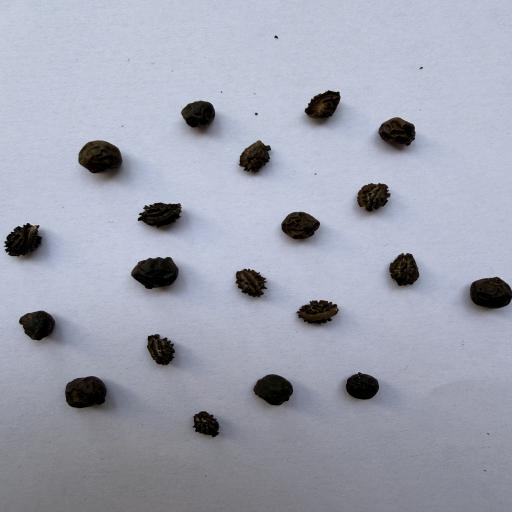Black_pepper: (74, 138, 127, 173), (128, 256, 180, 289), (61, 374, 111, 408), (467, 276, 512, 311), (252, 372, 294, 408), (176, 98, 220, 128), (16, 311, 58, 342), (378, 117, 420, 147), (280, 210, 322, 240), (342, 372, 382, 402)
papaya_seed: (285, 289, 357, 336), (286, 82, 355, 128), (126, 196, 212, 230), (226, 131, 286, 179), (3, 221, 54, 266), (180, 398, 231, 442), (382, 250, 428, 297), (134, 333, 186, 374), (353, 178, 397, 213), (231, 263, 272, 298)
